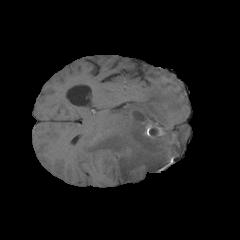glioma: (82, 85, 190, 182)
